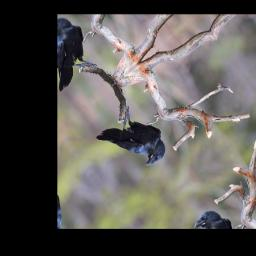Crow: (93, 100, 174, 186)
